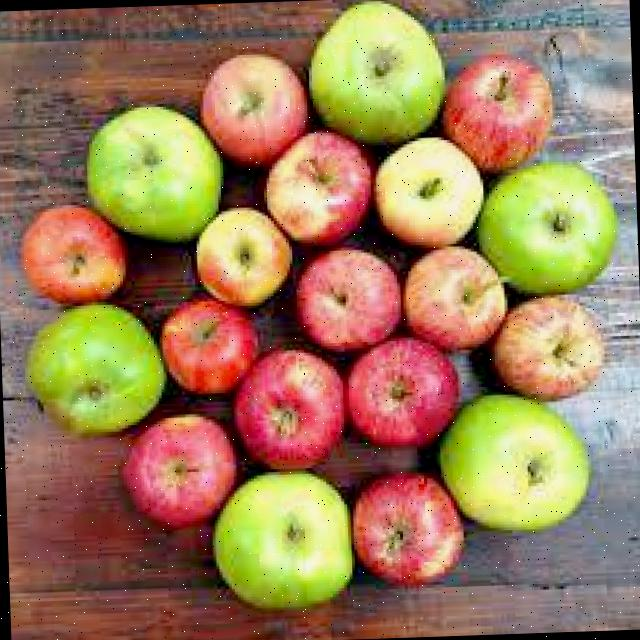apple: (422, 379, 618, 545), (199, 442, 368, 634), (66, 86, 241, 254), (285, 0, 478, 150), (8, 286, 175, 446), (455, 156, 626, 304), (102, 400, 260, 549), (244, 108, 392, 262), (356, 120, 508, 264), (223, 338, 366, 487), (338, 460, 483, 604), (422, 47, 566, 184), (186, 42, 326, 178), (482, 280, 618, 418), (332, 322, 467, 457), (5, 186, 144, 312), (394, 232, 530, 360), (180, 196, 308, 322), (281, 242, 414, 363), (142, 293, 270, 407)
